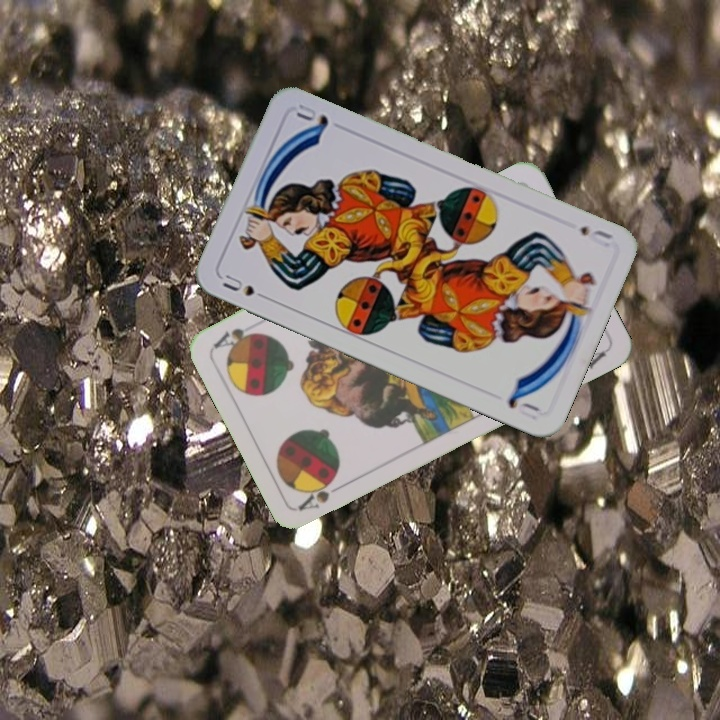SA: (295, 475, 350, 513)
SU: (218, 270, 274, 303), (576, 222, 616, 250)
